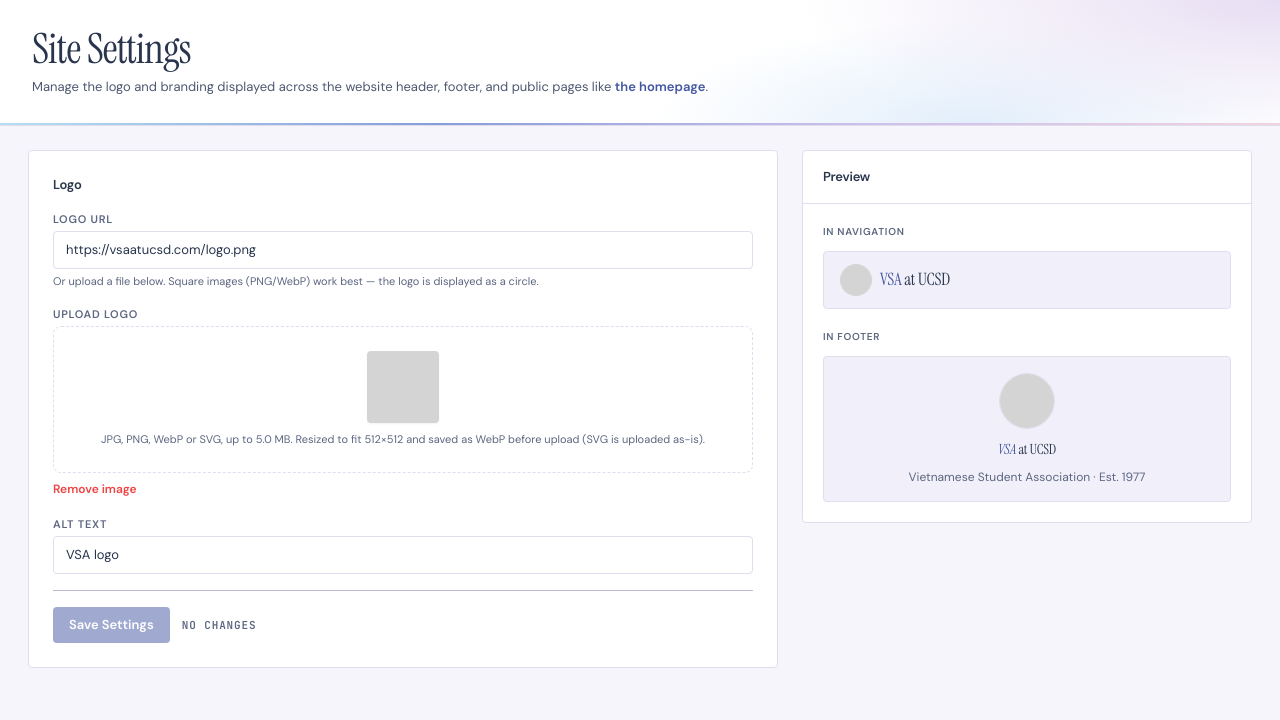
Test: Admin Settings shared form shell (#258) › disables save until changed, saves edits and clears the dirty state
expect the button "Save Settings" is disabled: met, box [53,607,170,643]
Replace the text in the field labelled "Alt Text" with "Vietnamese Student Association logo": point(403, 555) [53,536,753,574]
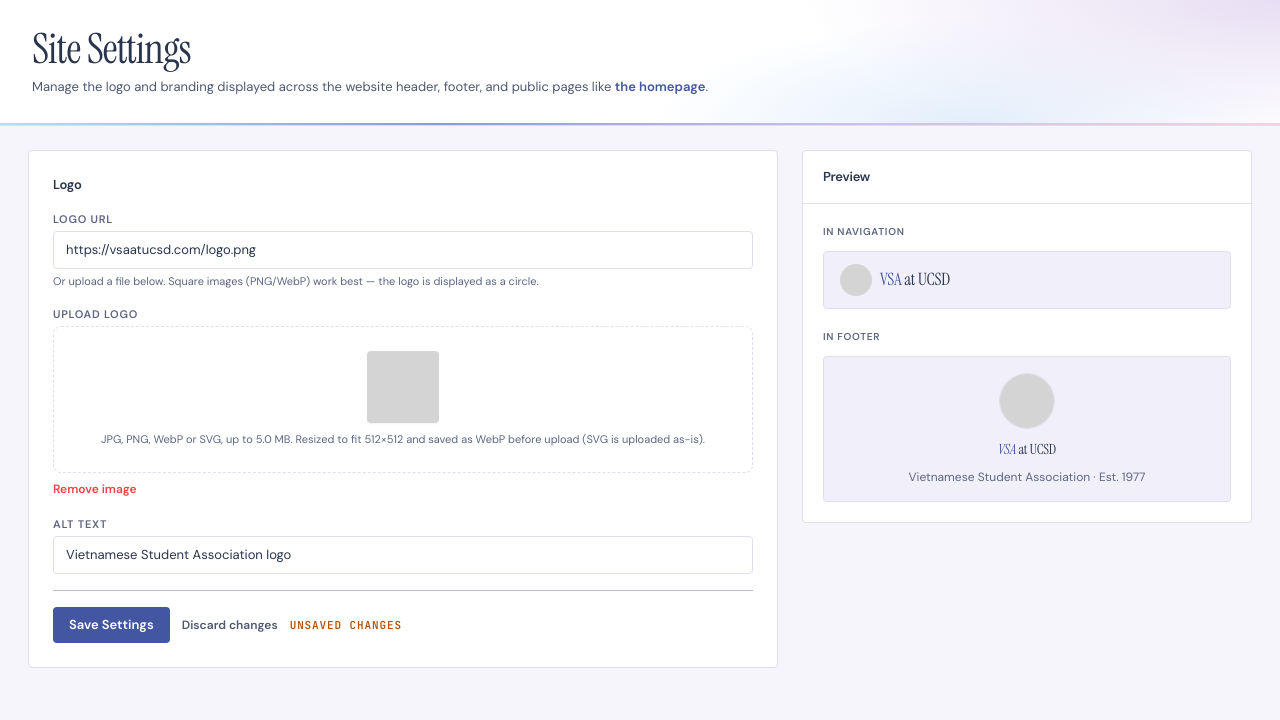
expect the button "Save Settings" is enabled: met
expect the text "Unsaved changes" is shown: met, box [290,617,402,634]
Click the button "Save Settings": point(111, 625) [53,607,170,643]
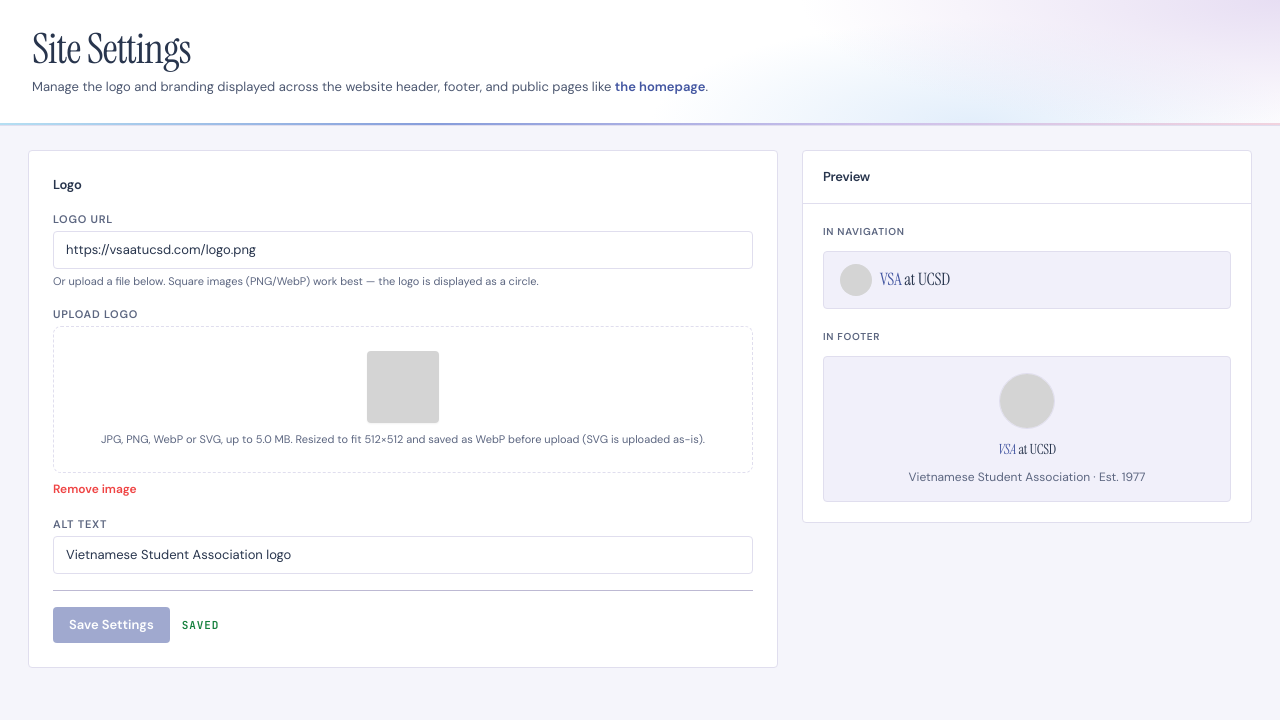
expect the text "Saved" is shown: met, box [182,617,219,634]
expect the button "Save Settings" is disabled: met, box [53,607,170,643]
